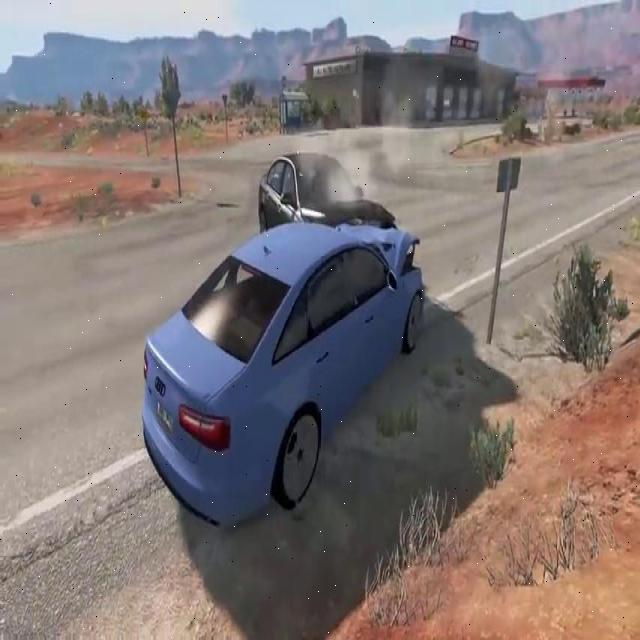moderate: (137, 136, 429, 531)
